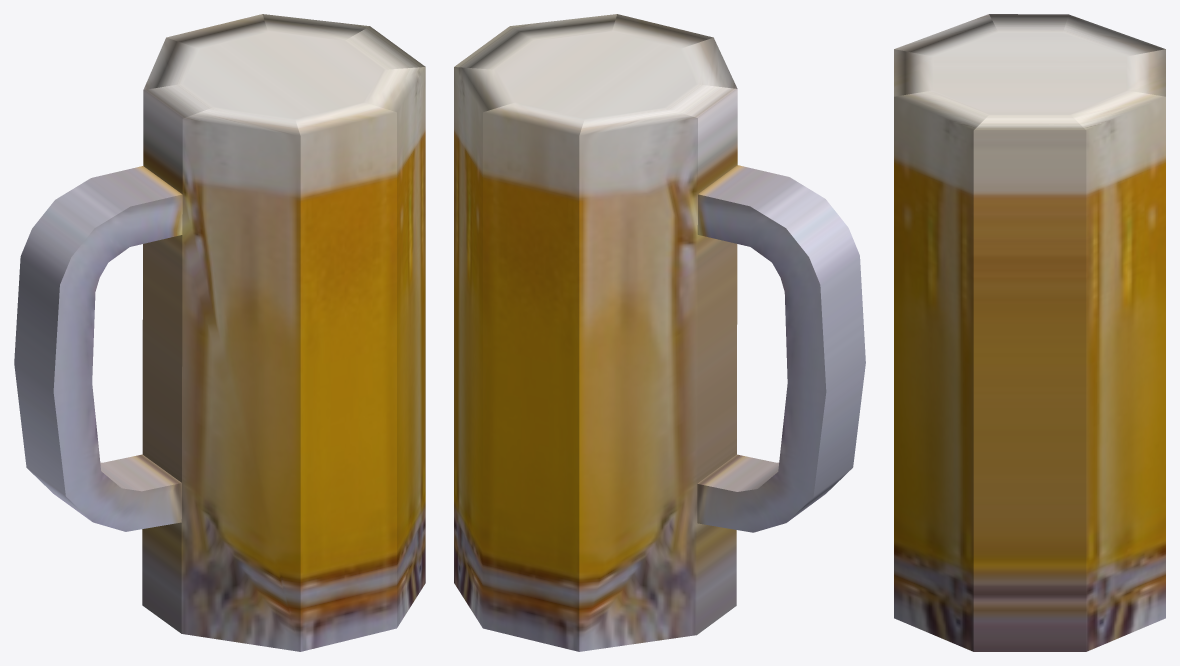
File: beer6m.fbx
3 renders of one model, left to right at view 1: azimuth 30°, elevation 25°; view 2: azimuth 150°, elevation 25°; view 3: azimuth 270°, elevation 25°, orthographic.
Parts seen in each view (by area): view 1: pCylinder1; view 2: pCylinder1; view 3: pCylinder1.
Part boxes in pixels (x1=…): pCylinder1: x1=14, y1=14, x2=425, y2=651; pCylinder1: x1=454, y1=14, x2=865, y2=651; pCylinder1: x1=894, y1=14, x2=1165, y2=651.
Size of the model in its own units: 3.03 by 4.1 by 1.94.
Materials: 1 (1 with a texture image).
